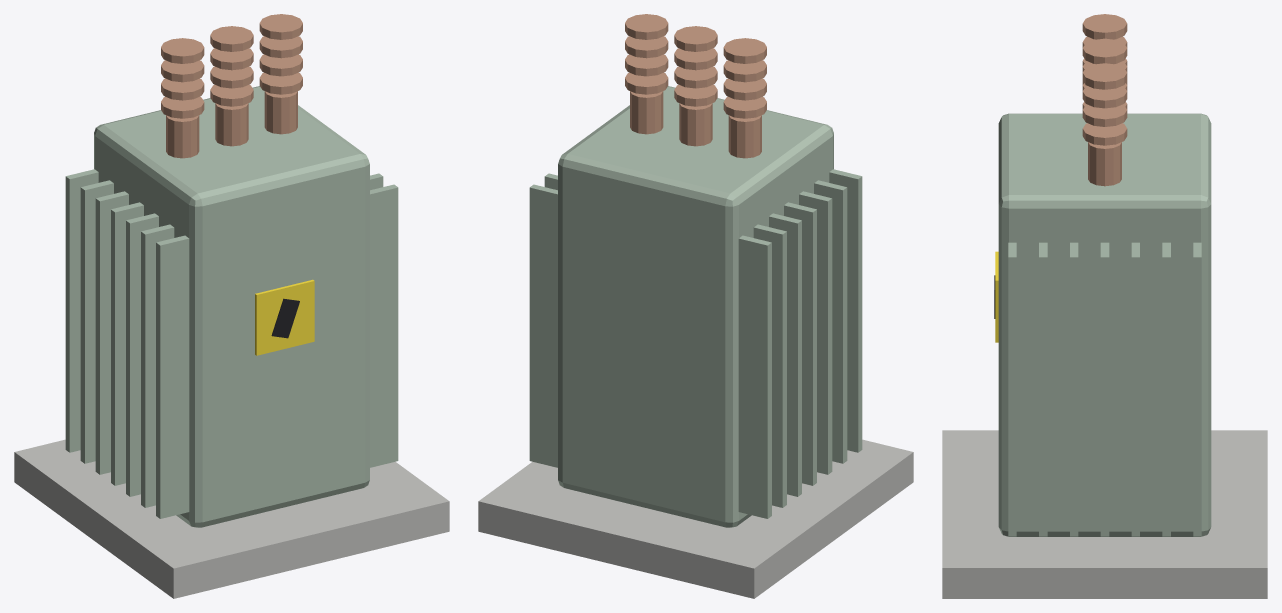
Rendered from xfmr.fbx.
3 renders of one model, left to right at view 1: azimuth 30°, elevation 25°; view 2: azimuth 150°, elevation 25°; view 3: azimuth 270°, elevation 25°, orthographic. The views are drawn at different scales.
Parts seen in each view (by area): view 1: xfmr; view 2: xfmr; view 3: xfmr.
Part boxes in pixels (left/top/right/bottom): xfmr: left=14, top=14, right=449, bottom=598; xfmr: left=478, top=14, right=913, bottom=598; xfmr: left=942, top=14, right=1267, bottom=598.
Bounding box in the file's own units: 0.95 × 1.55 × 0.95.
